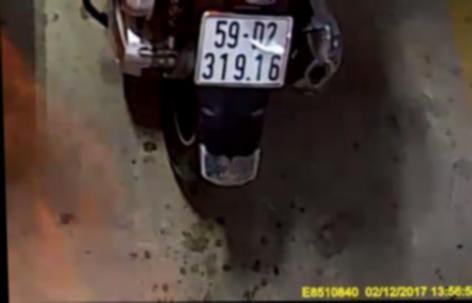License_Plate: (197, 11, 290, 89)
